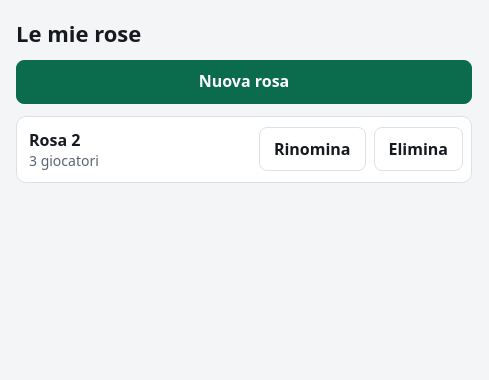
a new squad gets the first free default name, a new id and opens right away
Click the button "Nuova rosa": click(244, 82) left=16, top=60, right=472, bottom=104
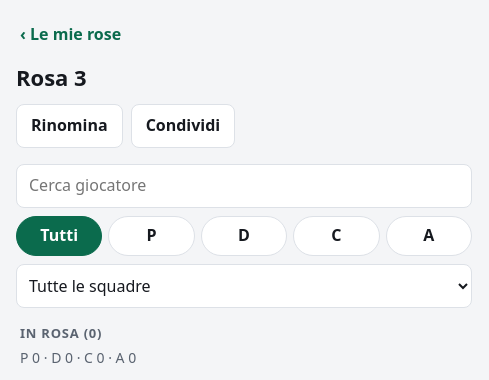
Now the heading "Rosa 3" is shown, box left=16, top=62, right=87, bottom=92
Now the search field labelled "Cerca giocatore" is shown, box left=16, top=164, right=472, bottom=208
